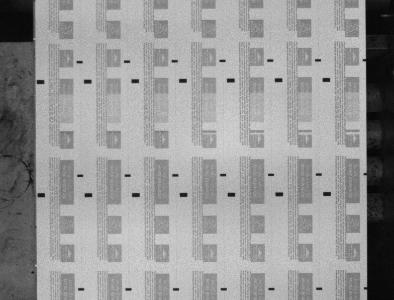backgroundclutter: (31, 271, 35, 274)
incorrect qblock: (364, 287, 368, 290), (364, 172, 368, 175), (363, 59, 367, 61)
qblock: (179, 78, 187, 83), (84, 79, 92, 84), (228, 192, 236, 197), (180, 192, 188, 197), (36, 80, 45, 84), (323, 192, 332, 196), (131, 79, 139, 83), (275, 78, 283, 82), (132, 193, 140, 197), (227, 78, 235, 82), (276, 192, 284, 196), (323, 78, 331, 82), (37, 193, 45, 197), (85, 193, 92, 197)
smallqblock: (220, 173, 227, 177), (172, 59, 178, 63), (124, 174, 131, 177), (172, 174, 179, 177), (268, 173, 275, 176), (77, 174, 84, 177), (315, 59, 322, 62), (76, 60, 83, 63), (125, 288, 132, 291), (316, 287, 323, 290), (267, 59, 274, 62), (316, 173, 322, 176), (78, 288, 84, 291), (124, 60, 130, 63), (220, 59, 226, 62), (221, 288, 227, 291), (173, 288, 179, 291), (269, 287, 275, 290)
